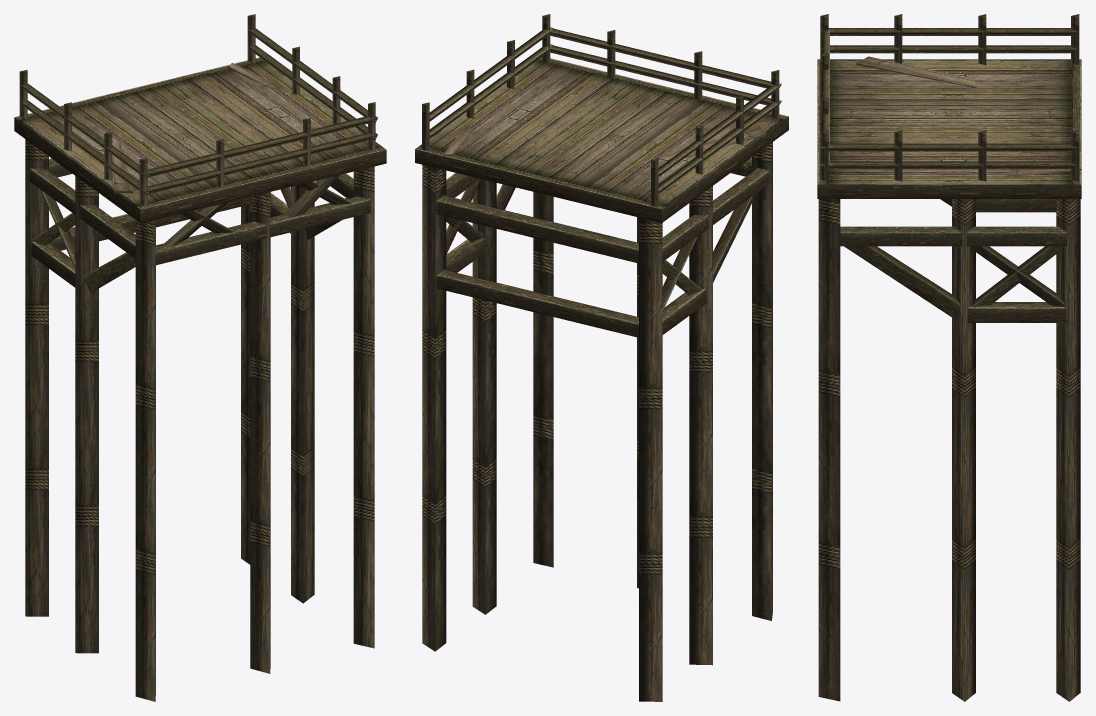
File: mutai_jx_40.FBX
3 renders of one model, left to right at view 1: azimuth 30°, elevation 25°; view 2: azimuth 150°, elevation 25°; view 3: azimuth 270°, elevation 25°, orthographic. The views are drawn at different scales.
Visible parts, largest first — view 1: mutai_jx_40; view 2: mutai_jx_40; view 3: mutai_jx_40.
Part boxes in pixels (box(x1,y1,x2,y2)): mutai_jx_40: box(14, 14, 386, 701); mutai_jx_40: box(415, 14, 788, 701); mutai_jx_40: box(817, 14, 1081, 701).
Size of what is drawn, in the model's own units: 758 by 1582 by 670.
